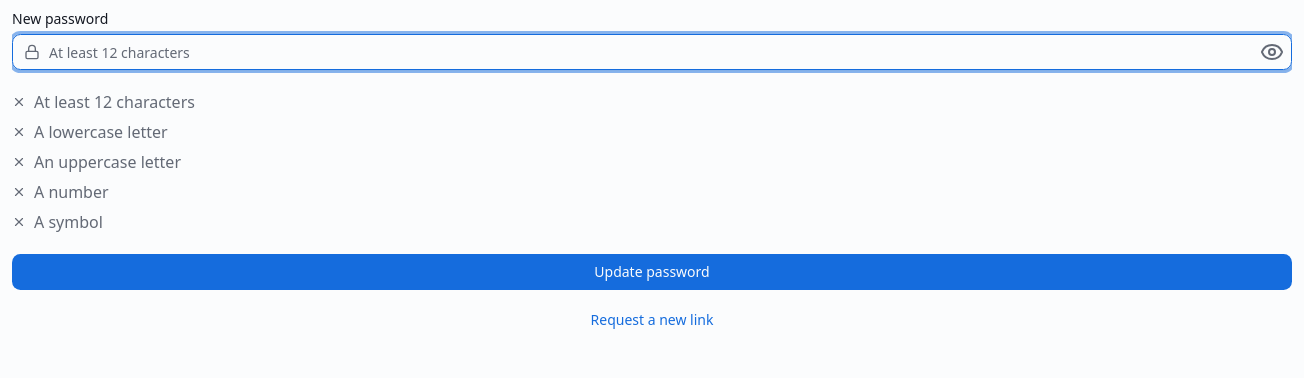
ResetPasswordForm › rejects a password the backend policy would refuse, client-side
Type "alllowercasepassword" into the password field labelled "New password". click: [652, 52]
box: 12,34 -> 1292,70
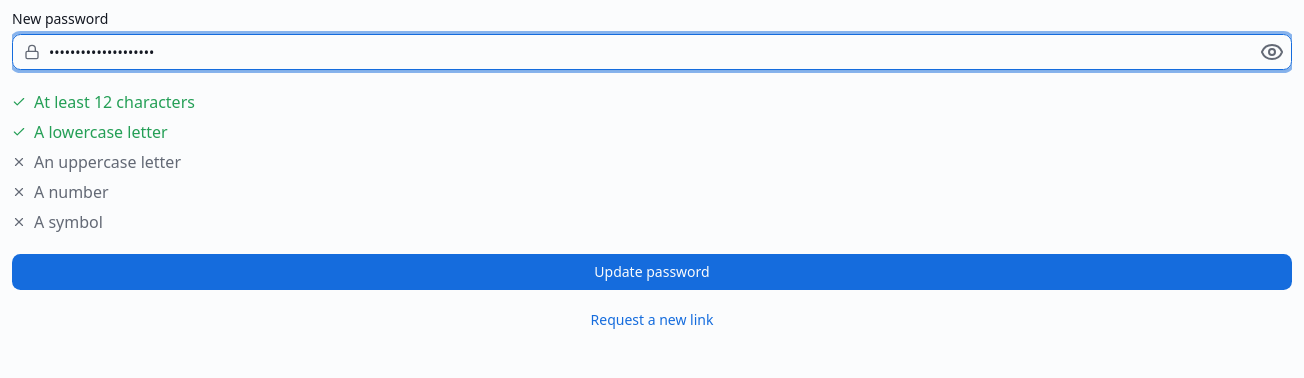
Click the button "Update password". click: [652, 272]
box: 12,254 -> 1292,290
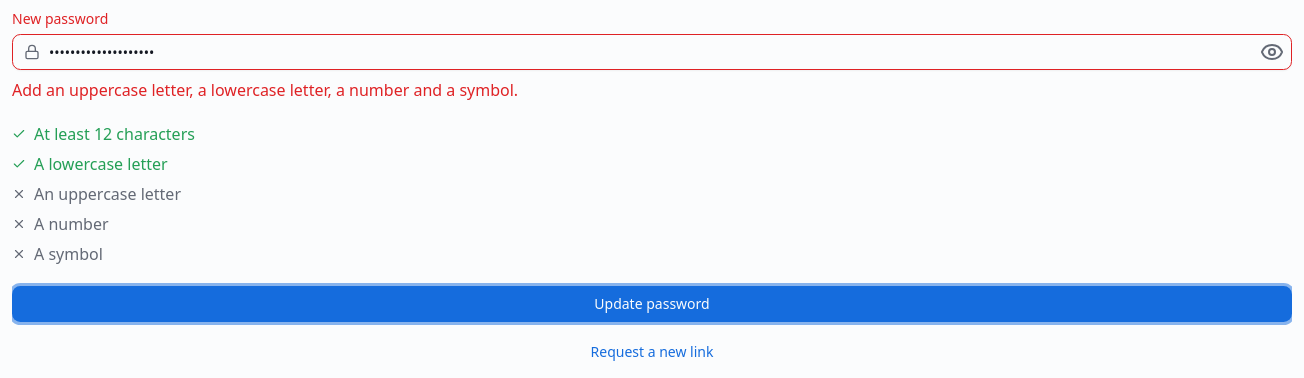
Expected: the text "Add an uppercase letter, a lowercase letter, a number and a symbol." is shown, 12,79 -> 518,101
